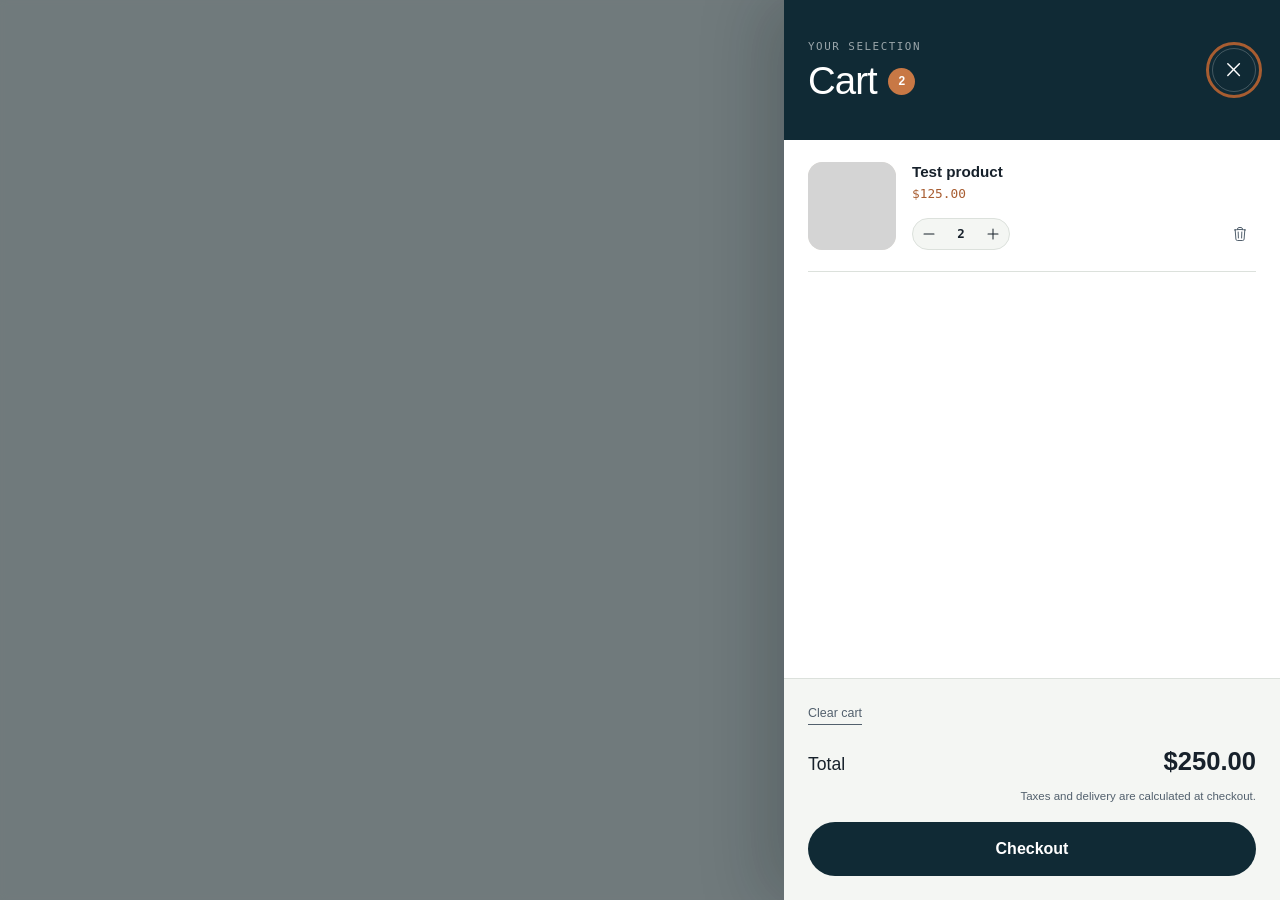
CartDrawer › updates the visible item count and removes the product
Expected: the heading "Cart 2" is shown, [808,61,921,102]
Expected: the text "$250.00" is shown, [1164,741,1256,782]
Click the button named "Increase quantity of Test product" at (993, 234), box [977,219,1009,249]
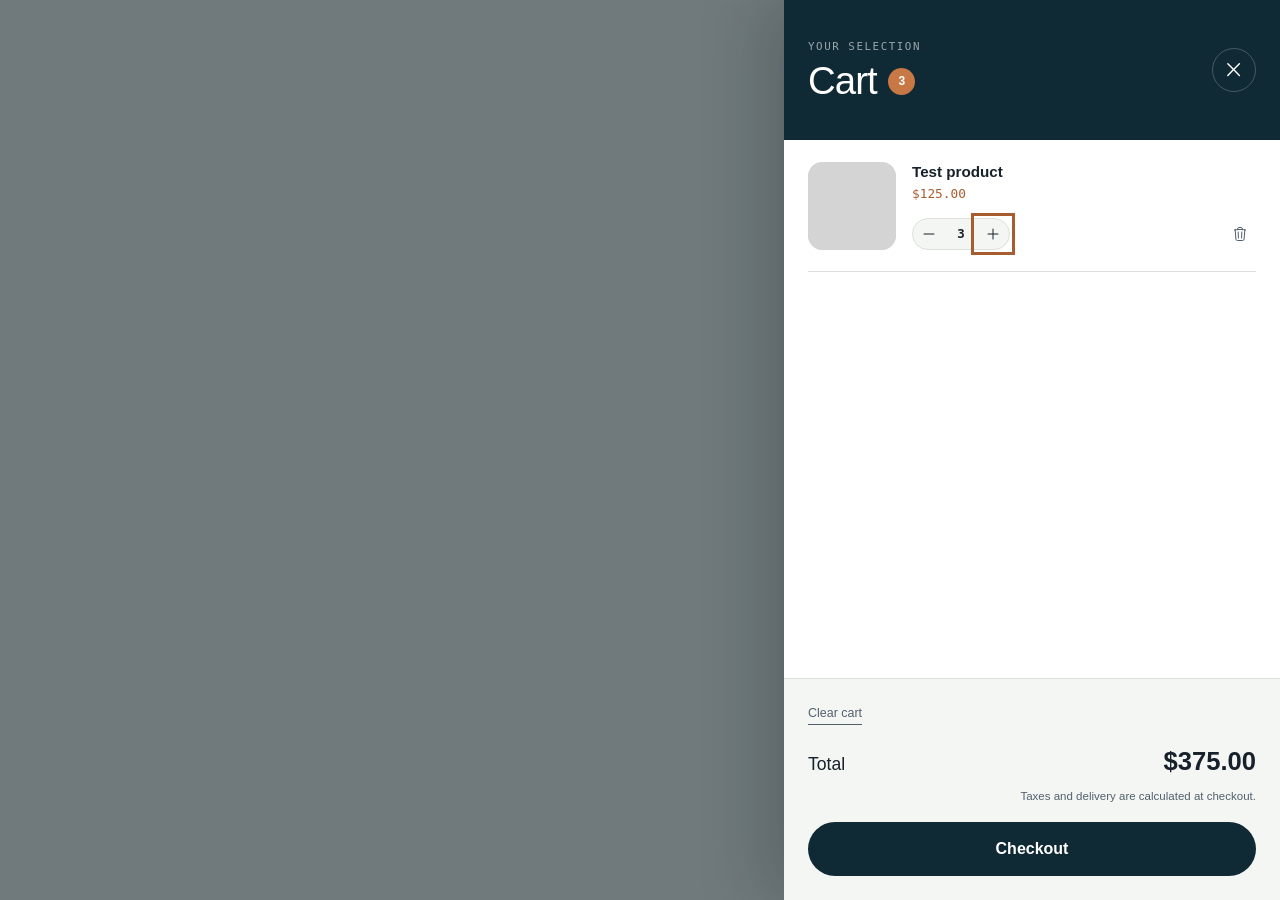
Expected: the heading "Cart 3" is shown, [808,61,921,102]
Expected: the text "$375.00" is shown, [1164,741,1256,782]
Click the button named "Remove Test product from cart" at (1240, 234), box [1224,218,1256,250]
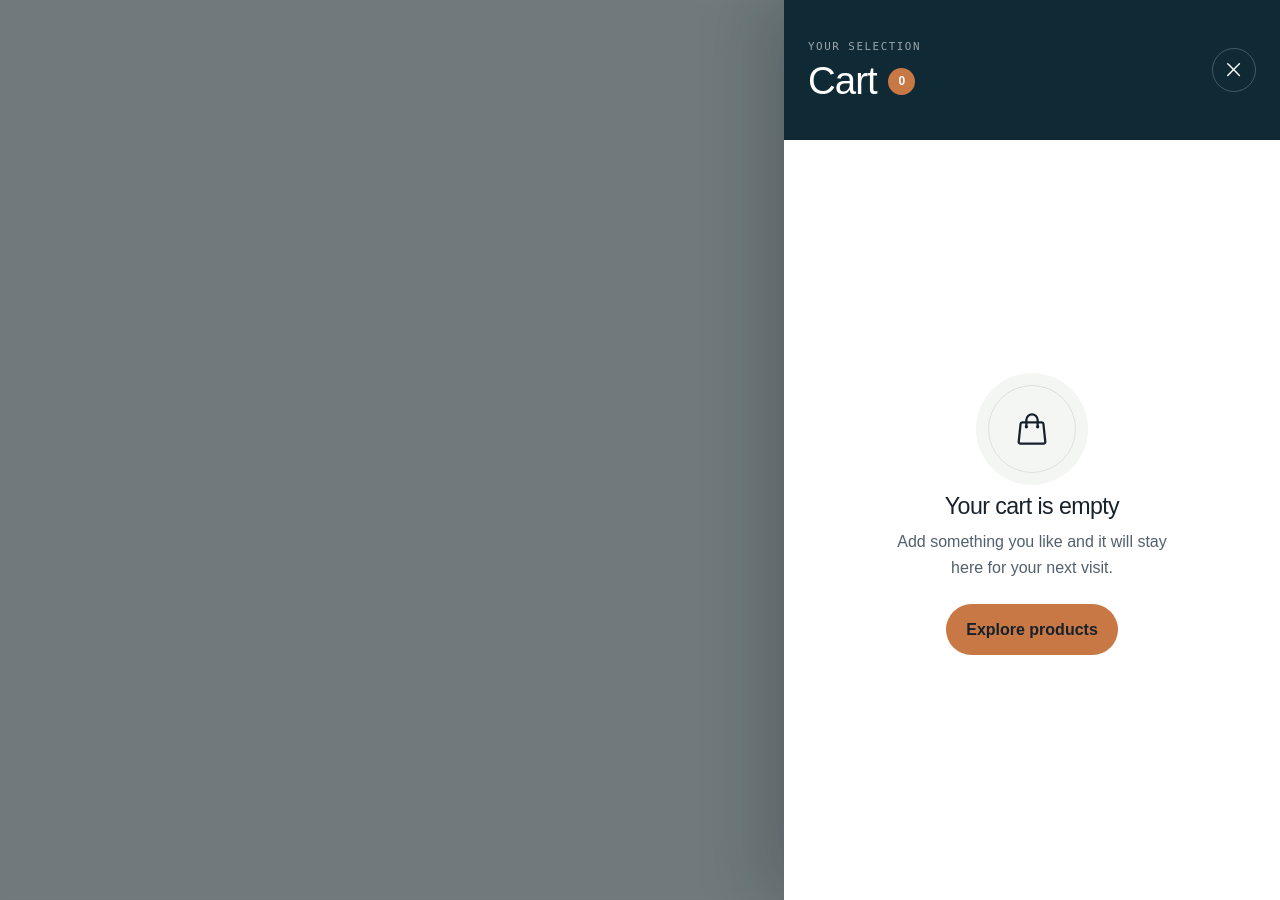
Expected: the heading "Your cart is empty" is shown, [945,494,1119,519]
Expected: the heading "Cart 0" is shown, [808,61,921,102]
